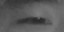LeftEyeFatigue: (8, 7, 59, 32)
